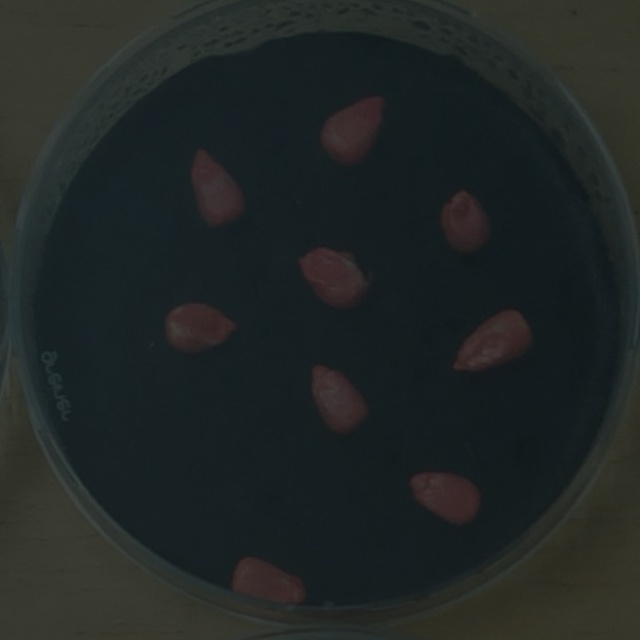Zea mays: (443, 300, 542, 381), (290, 241, 380, 320), (182, 141, 253, 235), (312, 91, 391, 175), (300, 356, 375, 443), (401, 463, 488, 536), (156, 295, 245, 361), (225, 550, 315, 613), (432, 182, 498, 261)
